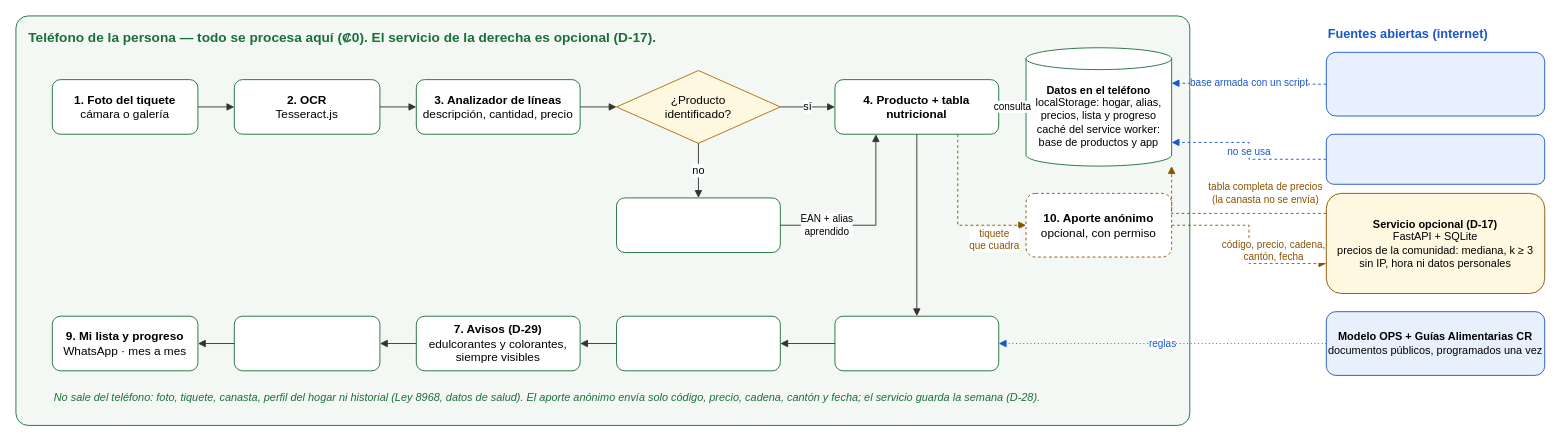
Image size: 1561x441. Some labels were removed from this diagram. Each missing label, with the centre of its shape:
"5. Sellos OPS solo procesados y ultraprocesados" goes at (x=916, y=343).
"6. Resumen de la canasta sin calorías ni juicios" goes at (x=698, y=343).
"8. Qué conviene cambiar de más sellos a menos, sin reemplazo (D-23)" goes at (x=306, y=343).
"Escanear código de barras BarcodeDetector o escribirlo" goes at (x=698, y=225).
"Open Food Facts productos y nutrientes (ODbL) aportes: versión futura (RF-10)" goes at (x=1435, y=83).
"Open Prices no se usa: casi sin precios de CR (D-09)" goes at (x=1435, y=158).
